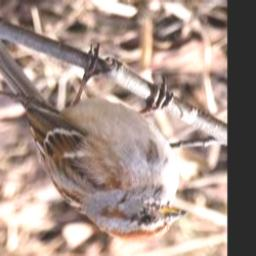Sparrow: (0, 10, 189, 247)
